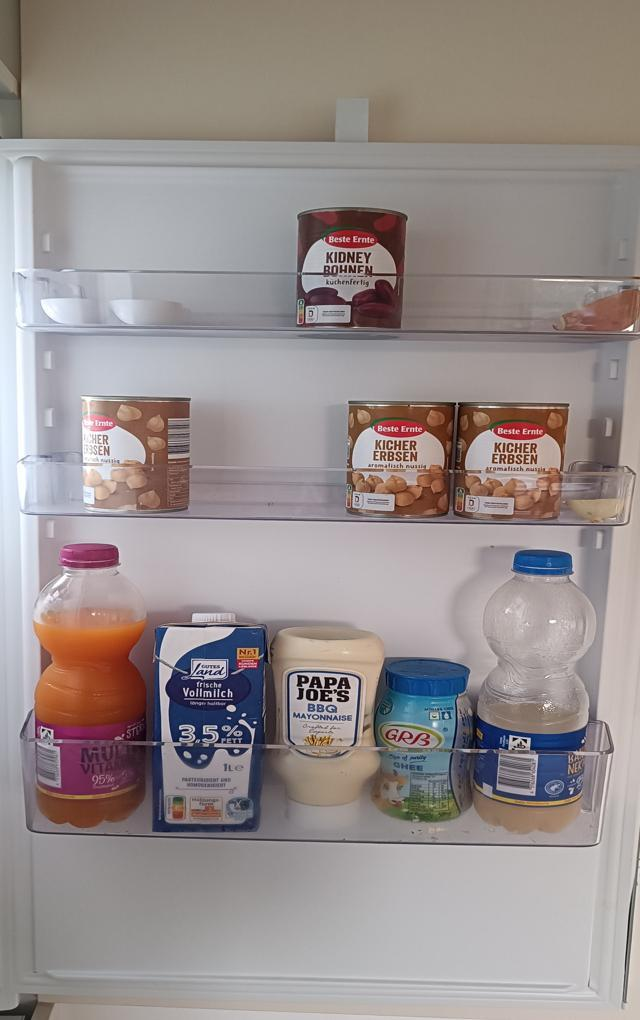bananajuice: (478, 547, 598, 835)
chickpeas: (78, 391, 194, 515), (459, 400, 565, 524), (349, 400, 453, 523)
ghee: (378, 658, 474, 822)
kidneybeans: (299, 210, 404, 336)
mayoniasie: (270, 625, 381, 831)
milk: (154, 611, 273, 833)
orangejuice: (34, 543, 154, 829)
